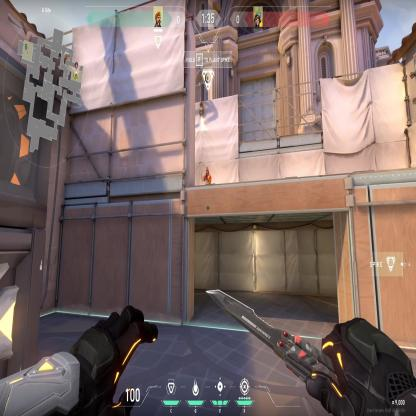enemy: (202, 165, 212, 185)
